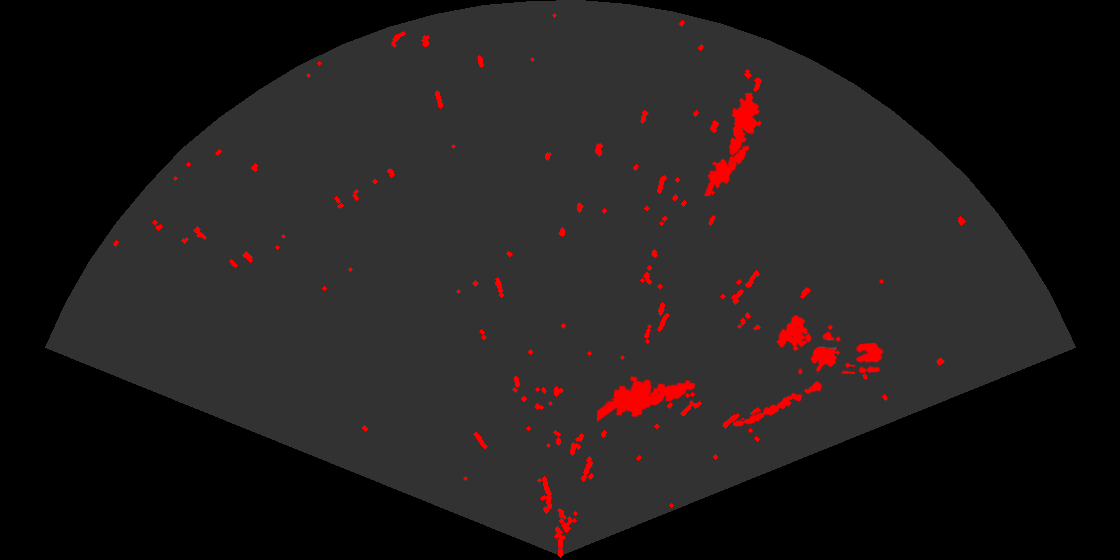ball: (854, 341, 885, 375)
cage: (775, 314, 855, 374)
chain: (731, 379, 824, 428)
frogman: (597, 374, 697, 424), (702, 143, 751, 196), (728, 93, 763, 166)
